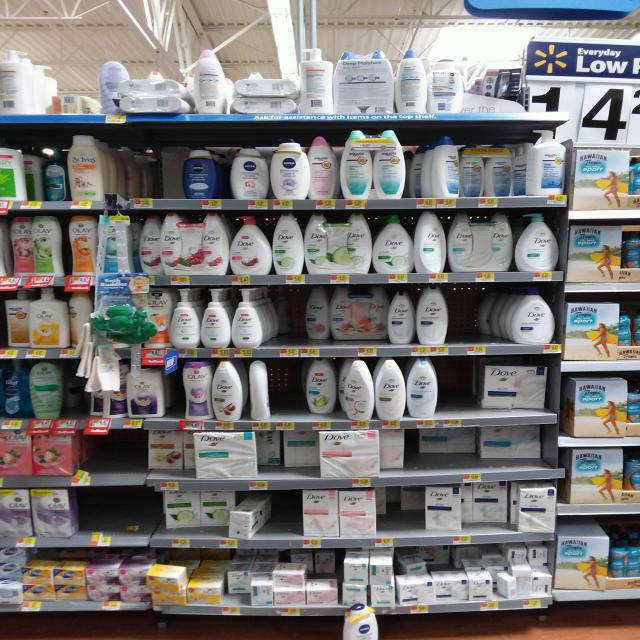void: (471, 57, 556, 108), (150, 134, 186, 208), (114, 135, 148, 211), (72, 486, 112, 549), (113, 487, 151, 548), (266, 287, 299, 357), (476, 284, 508, 354), (447, 356, 479, 426), (273, 364, 302, 429), (76, 434, 110, 486), (449, 284, 473, 354), (114, 432, 143, 485)
